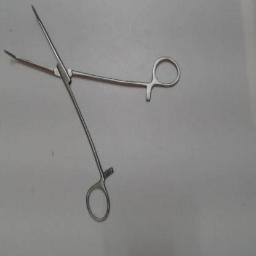Lahey Forceps: (0, 2, 186, 228)
